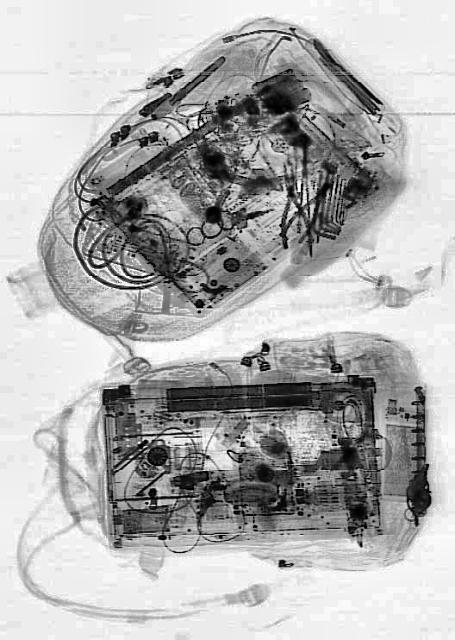Pliers: (276, 172, 336, 252), (272, 158, 312, 248)
